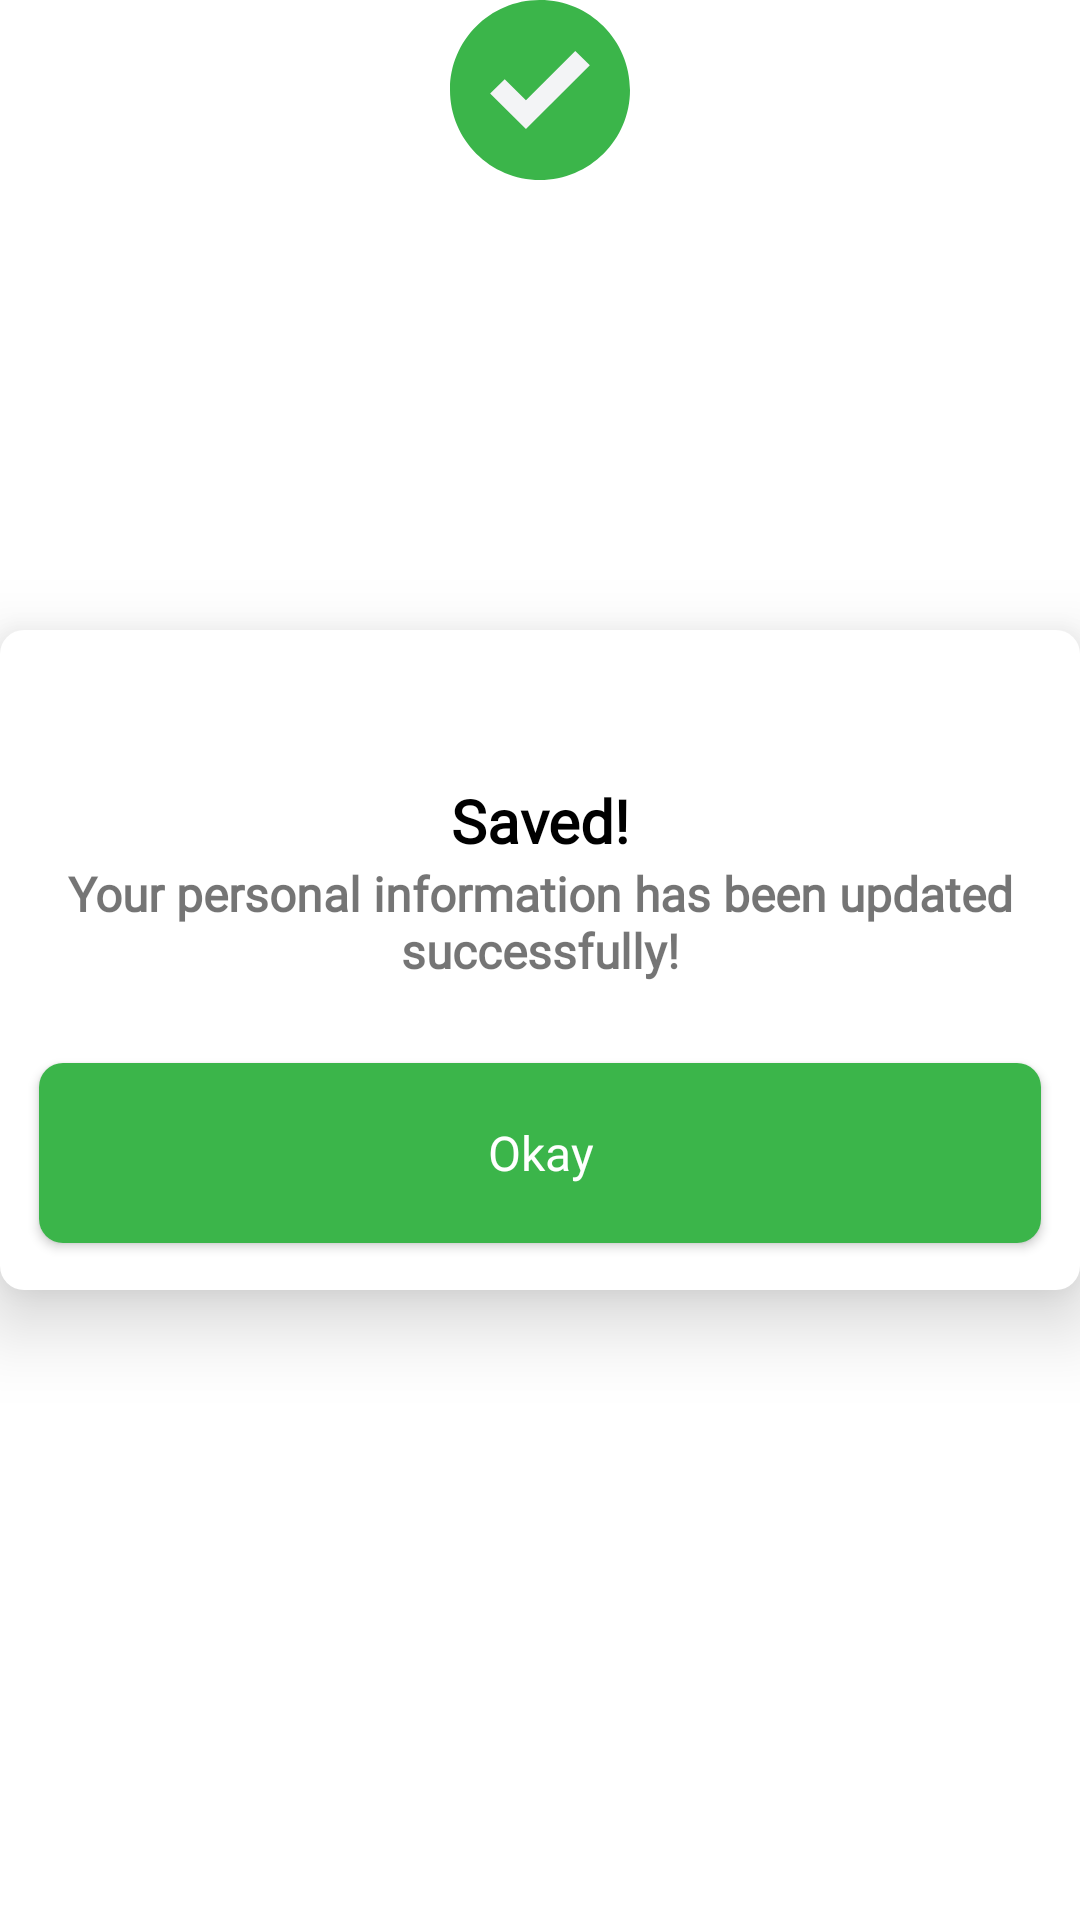

Named icons in this screenshot (1080px x 1920px) and their bounding boxes, (x1, y1, x2, y2):
alert success: (450, 0, 630, 180)
